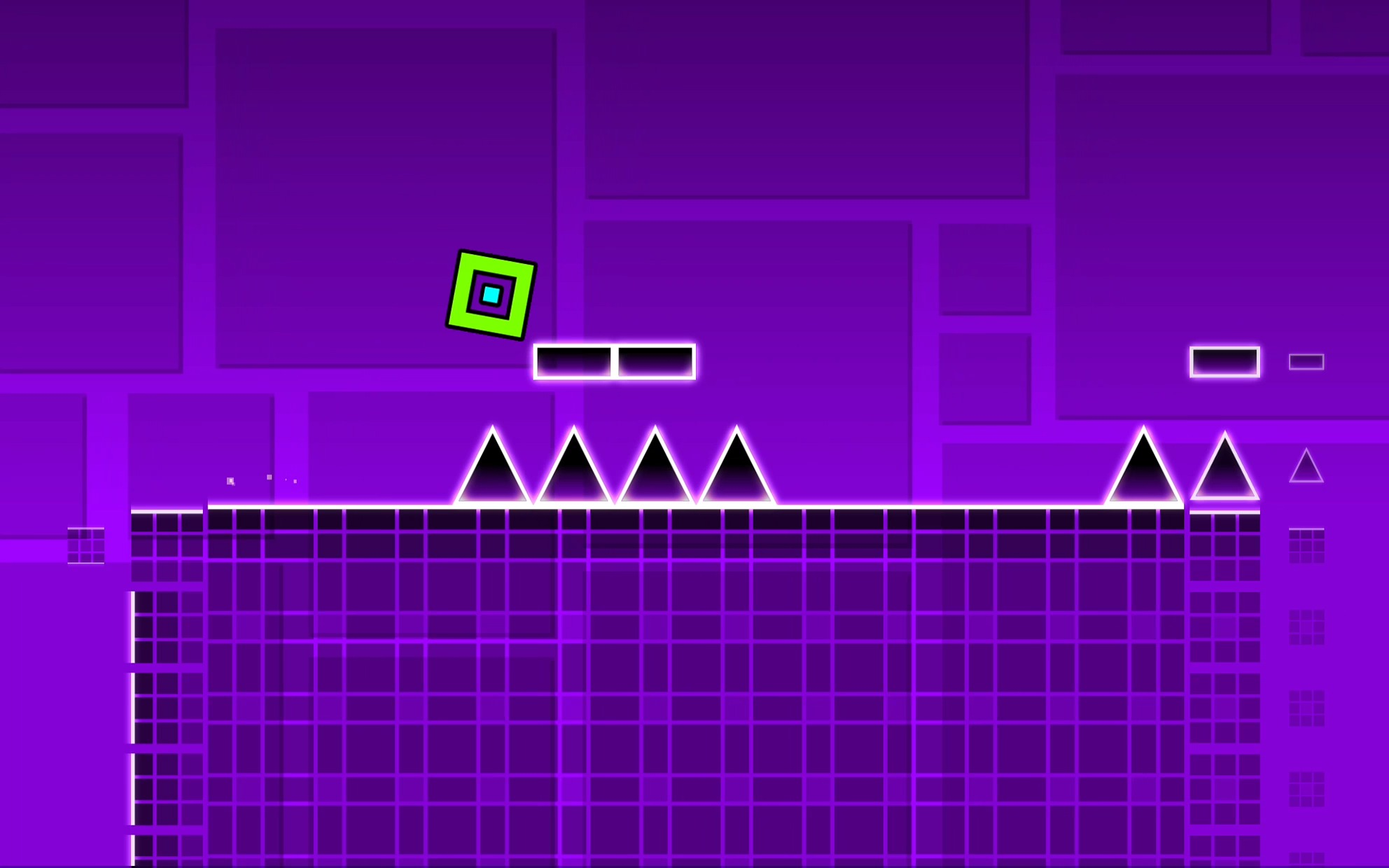Block2: (133, 504, 1272, 834)
Block3: (527, 344, 695, 381), (1189, 344, 1262, 377)
Player: (447, 249, 535, 338)
Spike: (1105, 426, 1180, 504), (699, 426, 773, 504), (454, 426, 527, 502), (620, 426, 692, 500), (538, 427, 610, 501), (1190, 433, 1257, 499), (1290, 448, 1324, 482)
